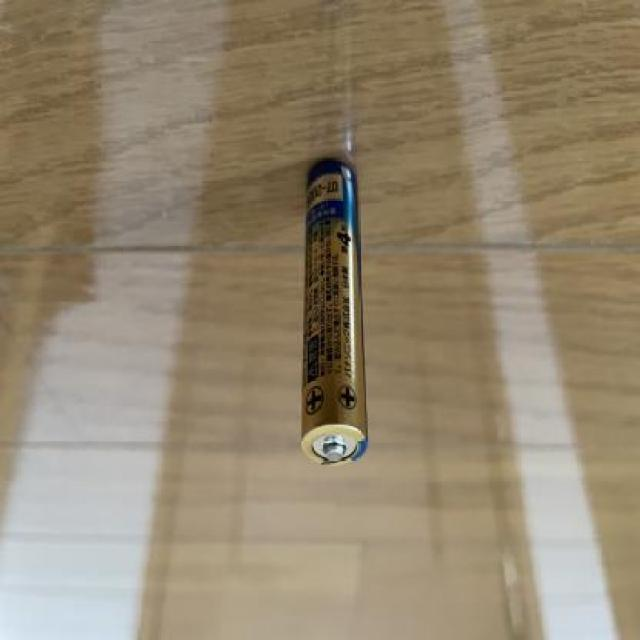hazardous waste: (298, 157, 369, 471)
